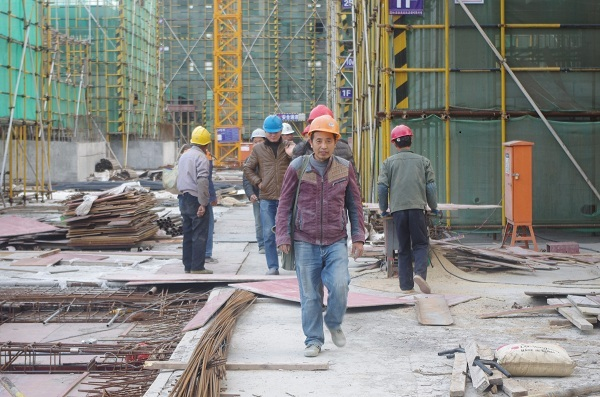safetyhat: (278, 117, 363, 354), (377, 121, 446, 298), (173, 123, 220, 282)
